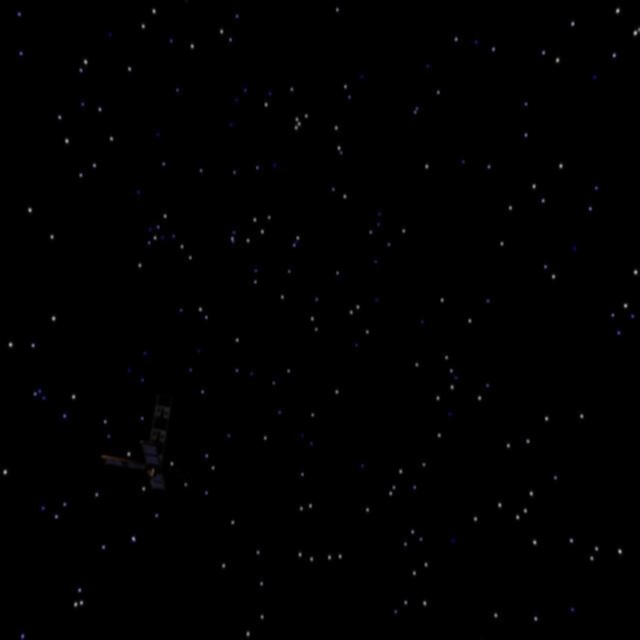medium_debris: (100, 399, 191, 504)
